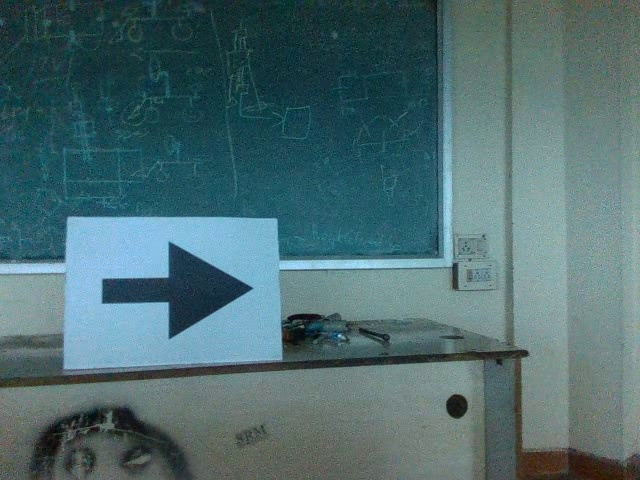Right: (98, 237, 258, 344)
